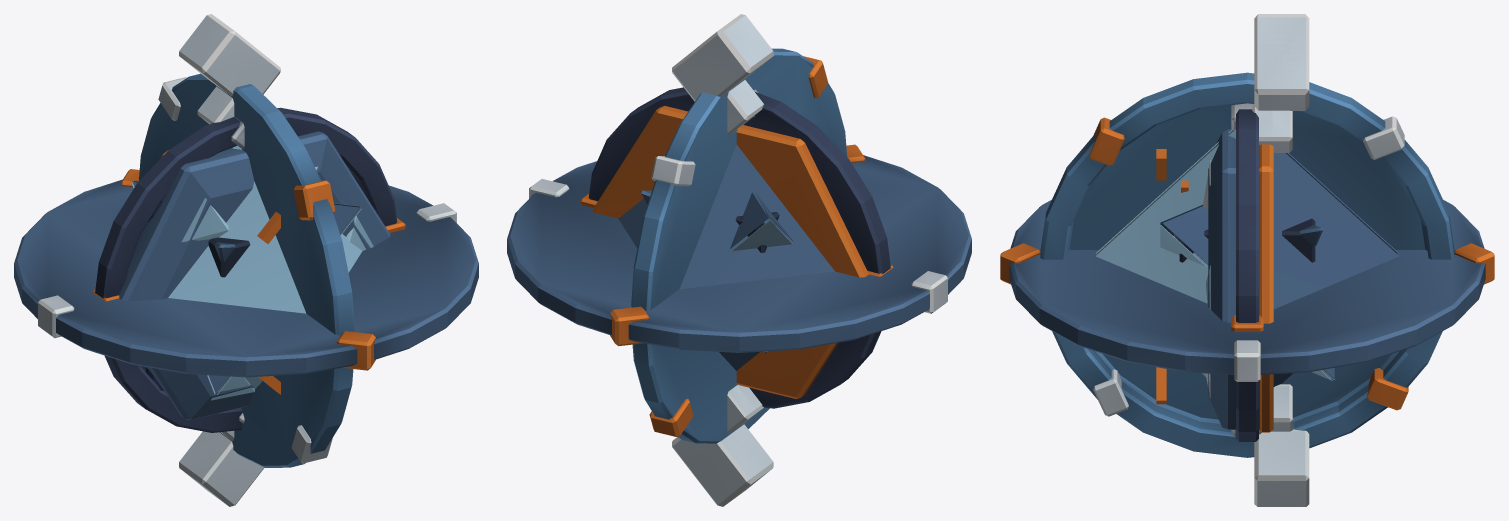
The picture shows the model from 3 angles, left to right: view 1: azimuth 30°, elevation 25°; view 2: azimuth 150°, elevation 25°; view 3: azimuth 270°, elevation 25°; orthographic projection. The views are drawn at different scales.
Visible parts, largest first — view 1: gyro_core_body, hex_plate_body, prism_body, prism_m_body, prism_s_body, prism_glow; view 2: gyro_core_body, prism_body, hex_plate_body, prism_m_body, prism_s_body; view 3: gyro_core_body, prism_body, hex_plate_body, prism_m_body, prism_s_body, prism_glow.
Boxes of the visible parts, <box> form: gyro_core_body: <box>14,73,478,467</box>; hex_plate_body: <box>119,131,390,420</box>; prism_body: <box>145,14,362,506</box>; prism_m_body: <box>197,86,234,441</box>; prism_s_body: <box>131,180,361,394</box>; prism_glow: <box>257,212,280,394</box>; gyro_core_body: <box>507,48,971,443</box>; prism_body: <box>618,14,834,506</box>; hex_plate_body: <box>592,106,868,398</box>; prism_m_body: <box>727,80,763,434</box>; prism_s_body: <box>730,192,793,250</box>; gyro_core_body: <box>1000,72,1494,457</box>; prism_body: <box>1095,14,1399,506</box>; hex_plate_body: <box>1203,129,1273,432</box>; prism_m_body: <box>1252,104,1292,431</box>; prism_s_body: <box>1160,204,1334,380</box>; prism_glow: <box>1156,149,1166,404</box>.
Bounding box in the file's own units: 9.3 × 10.38 × 9.48.
